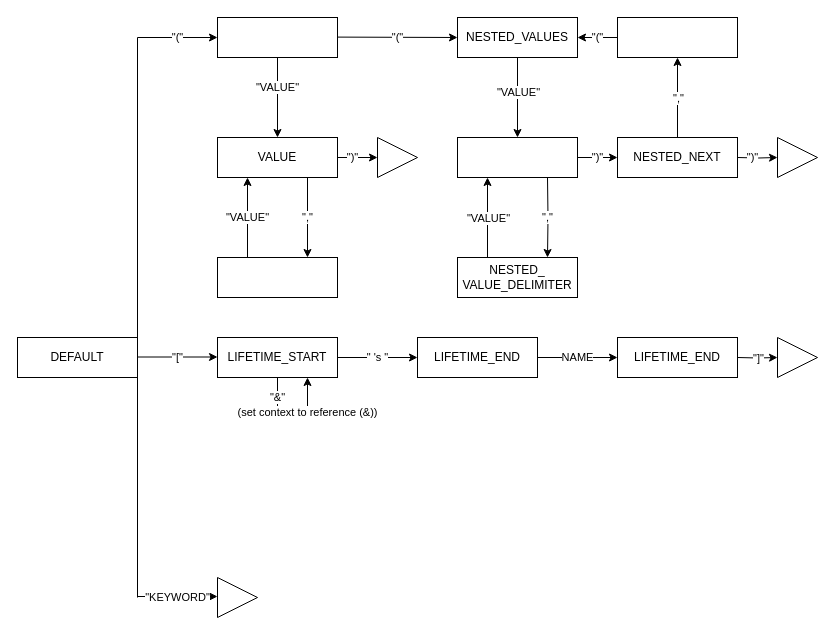
Image size: 835x635. Some labels were removed from this diagram. The shapes that lost their labels are listed below. From the top down, each one's centre as x and y in pixels, then its label:
the point at 277,37: VALUES
the point at 677,37: NESTED_ NEXT_DELIMITER
the point at 517,157: NESTED_VALUE
the point at 277,277: VALUE_DELIMITER
